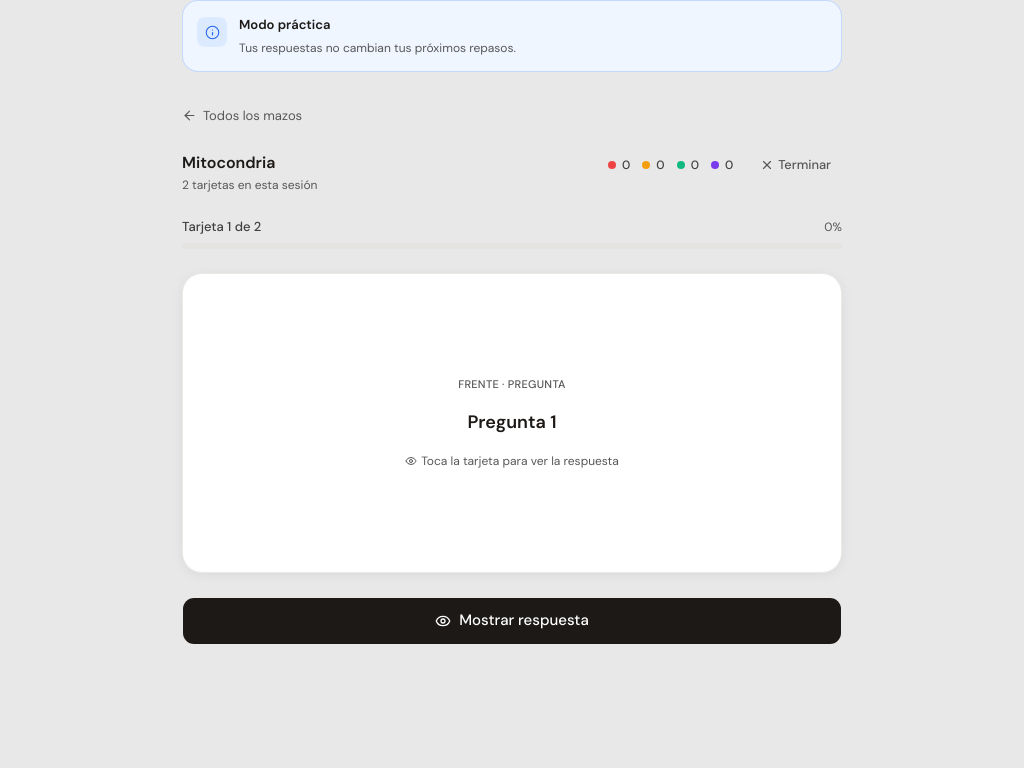
Test: DeckReview, up to date and practice mode › asks what is due after a practice pass opened with ?modo=practica, never claiming an up-to-date deck
The width and height of the screenshot is (1024, 768).
Click the button "Mostrar respuesta": click(512, 620) [182,596,842,644]
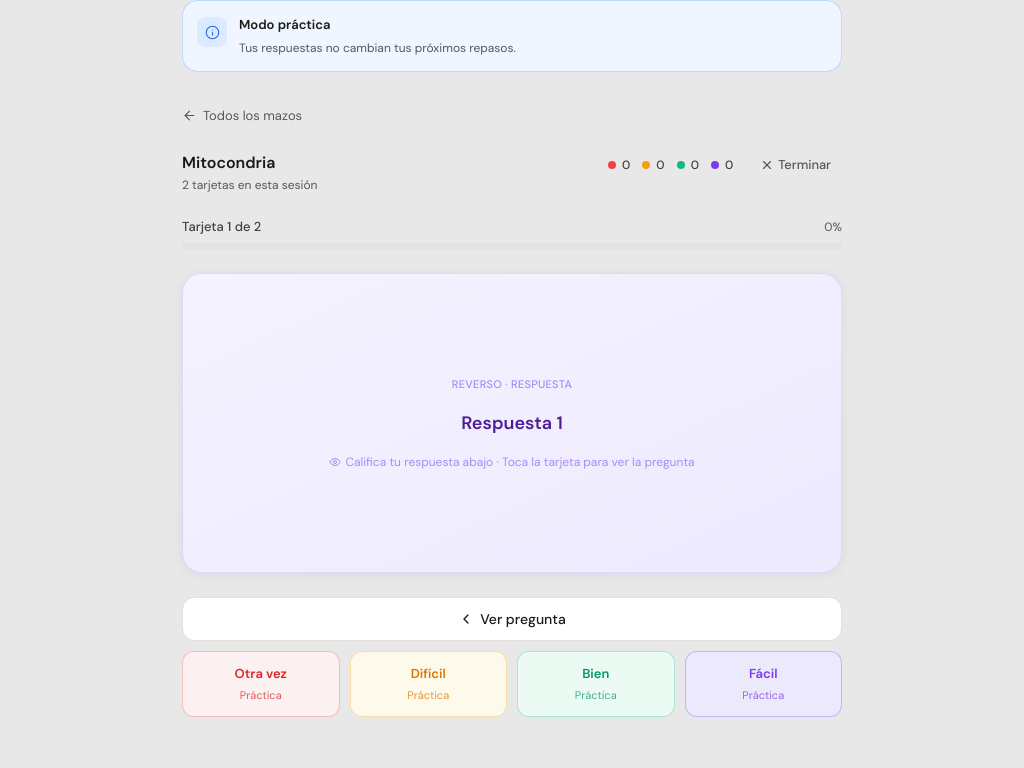
Click the button "Bien Práctica": click(596, 684) [517,650,674,716]
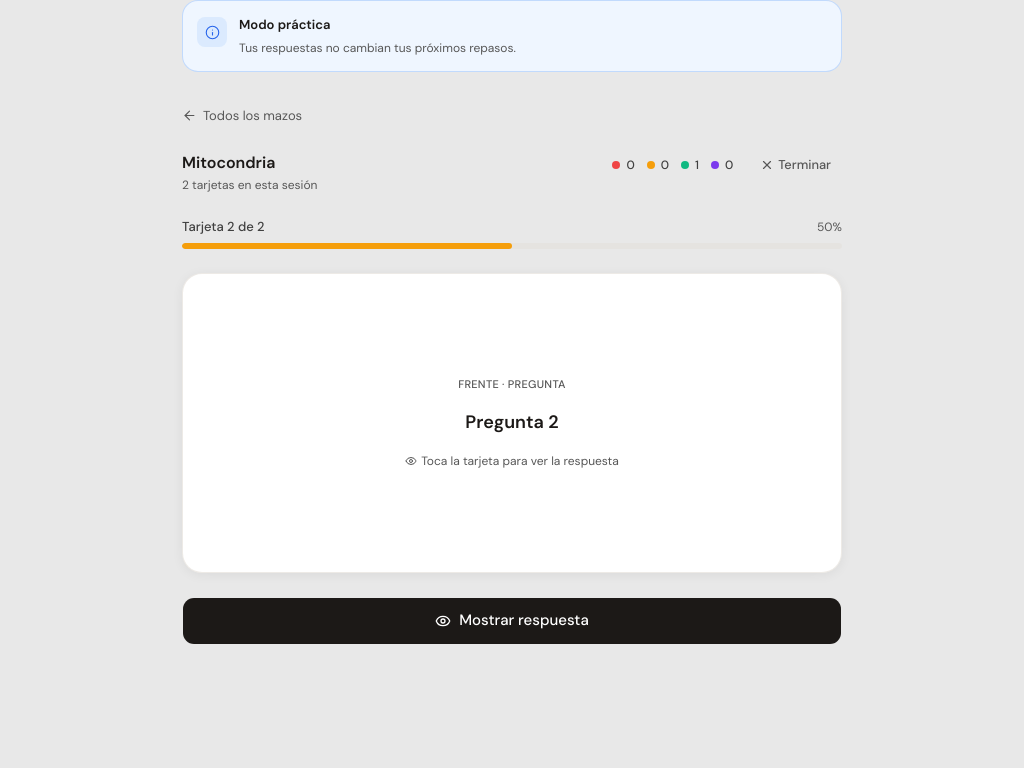
Click the button "Mostrar respuesta": click(512, 620) [182,596,842,644]
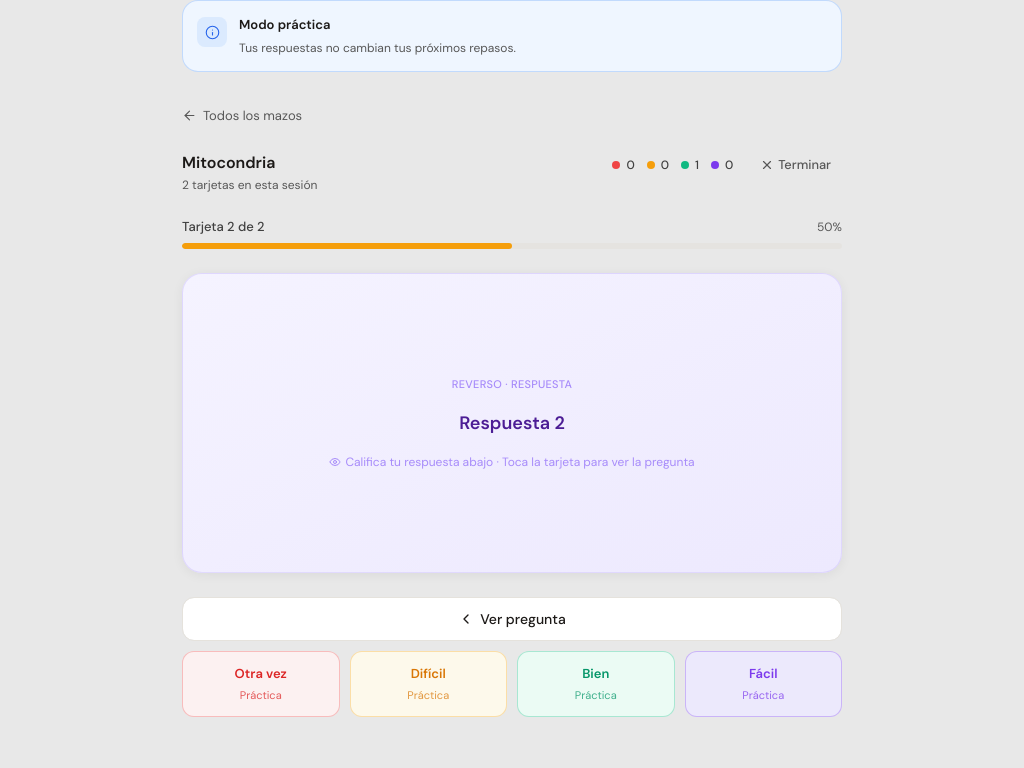
Click the button "Bien Práctica": click(596, 684) [517,650,674,716]
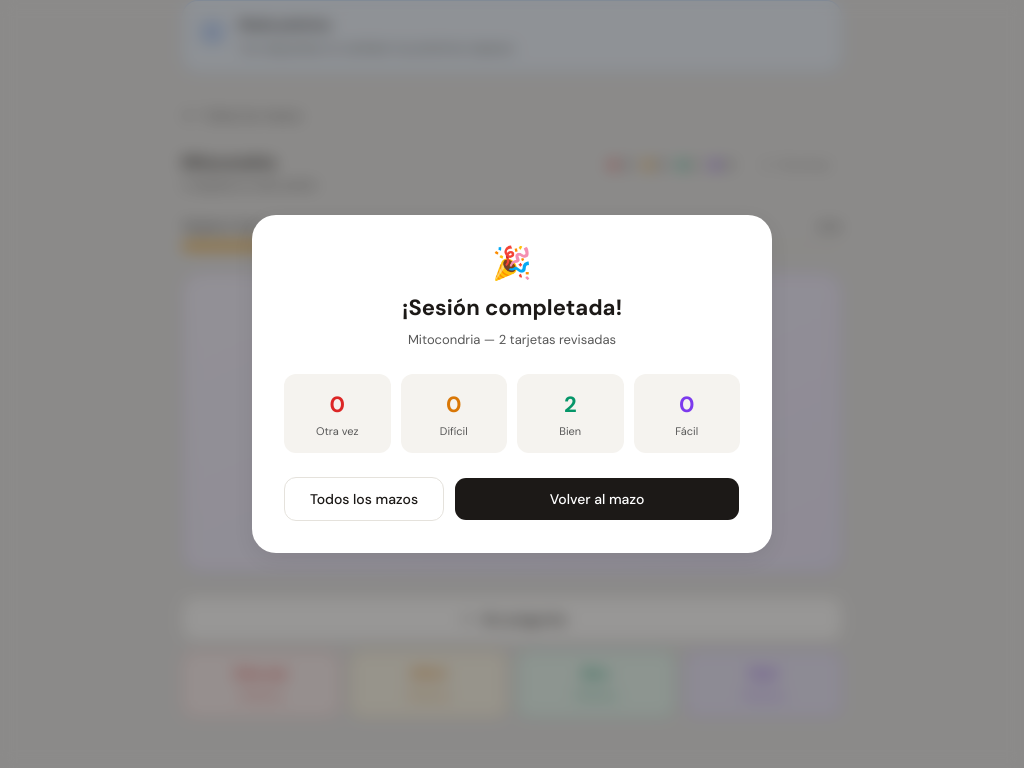
Click the button "Volver al mazo": click(597, 499) [454,477,740,521]
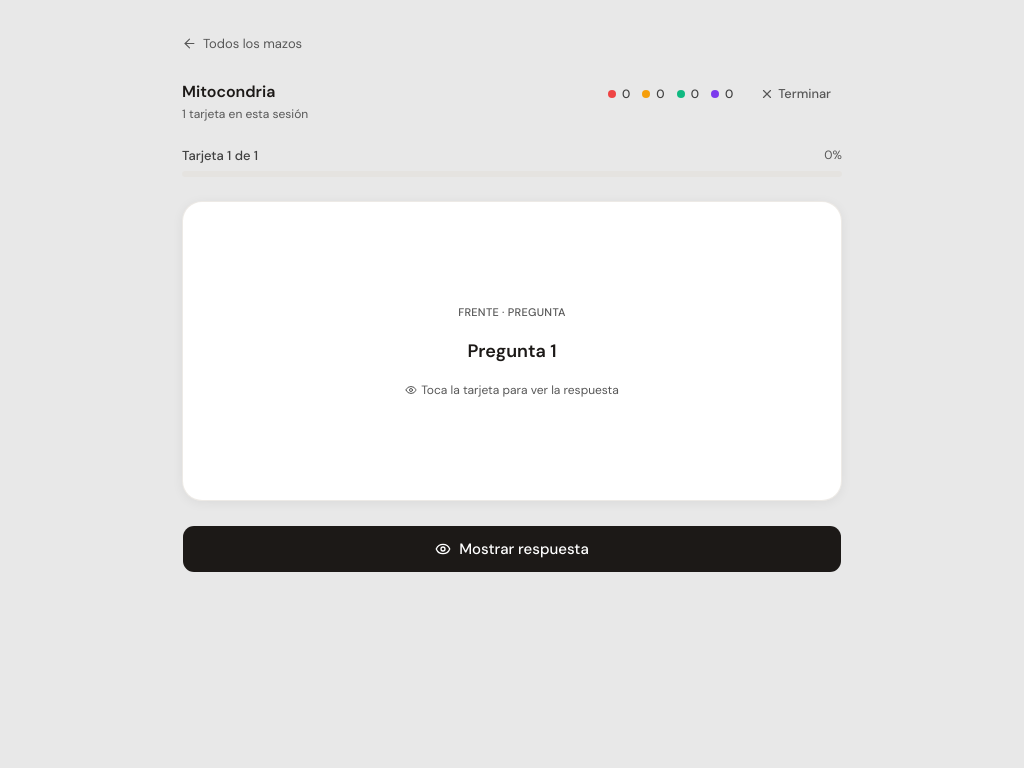
Check: the text "Tarjeta 1 de 1" is shown, box [182,146,258,165]
Check: the text "Modo práctica" is gone
